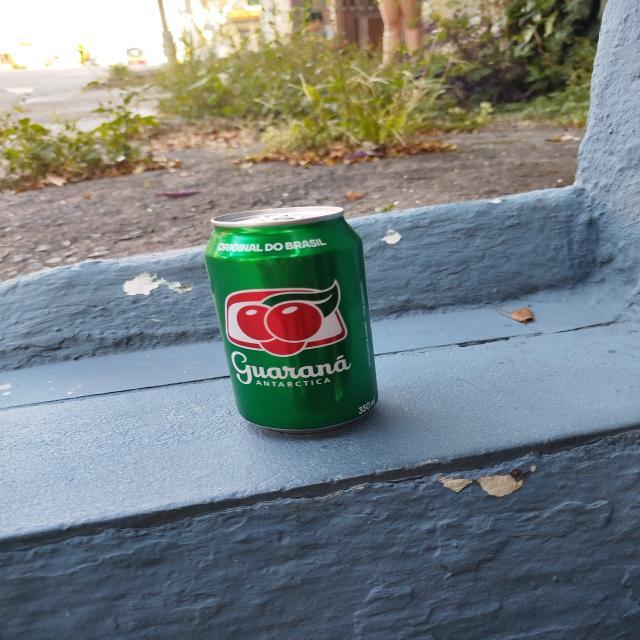Guarana: (208, 206, 378, 433)
